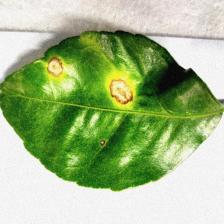canker: (42, 41, 140, 106)
